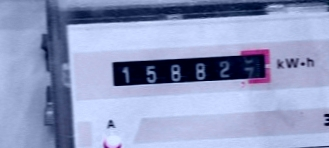1: (119, 63, 131, 83)
2: (217, 58, 230, 77)
5: (144, 62, 156, 83)
7: (243, 64, 254, 79)
8: (169, 61, 181, 82), (194, 60, 206, 81)
screen: (103, 42, 280, 94)
